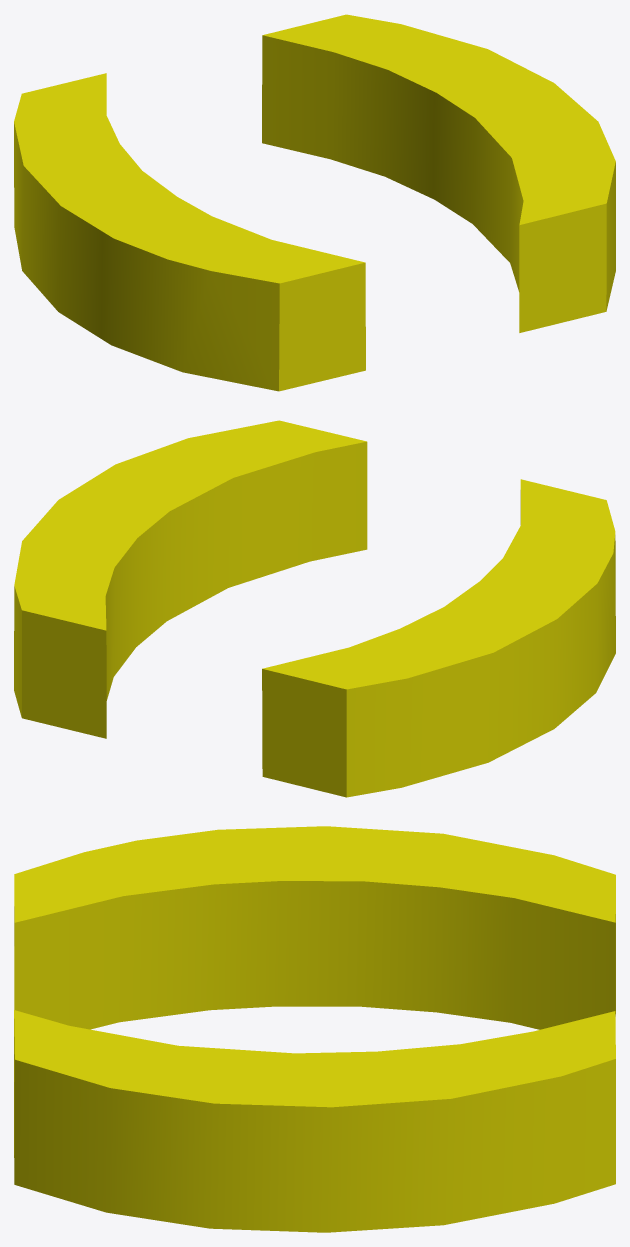
The model's file is IconParens.glb.
3 views of the same model, one above another, from view 1: azimuth 30°, elevation 25°; view 2: azimuth 150°, elevation 25°; view 3: azimuth 270°, elevation 25° (orthographic). The views are drawn at different scales.
Parts seen in each view (by area): view 1: IconParens; view 2: IconParens; view 3: IconParens.
Part boxes in pixels (x1=…): IconParens: x1=14, y1=14, x2=615, y2=391; IconParens: x1=14, y1=420, x2=615, y2=797; IconParens: x1=14, y1=826, x2=615, y2=1232.
Size of the model in its own units: 1.59 by 0.331 by 1.44.
